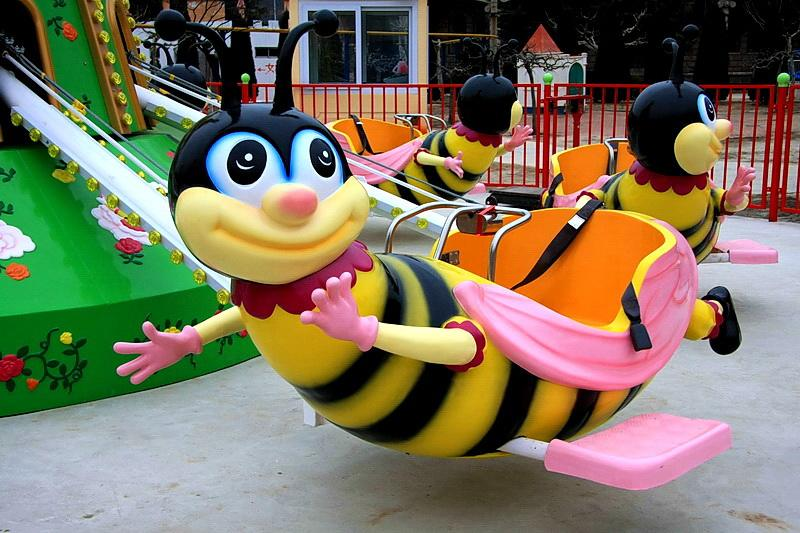fall: (125, 152, 757, 490)
